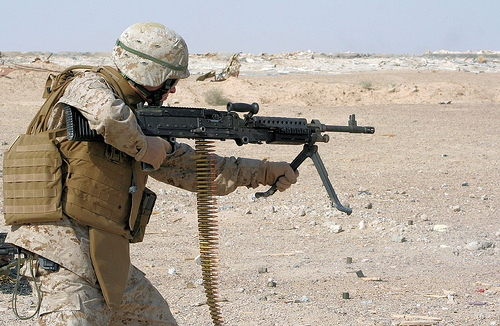rifle: (177, 105, 377, 150)
rifle in hand: (81, 102, 382, 192)
